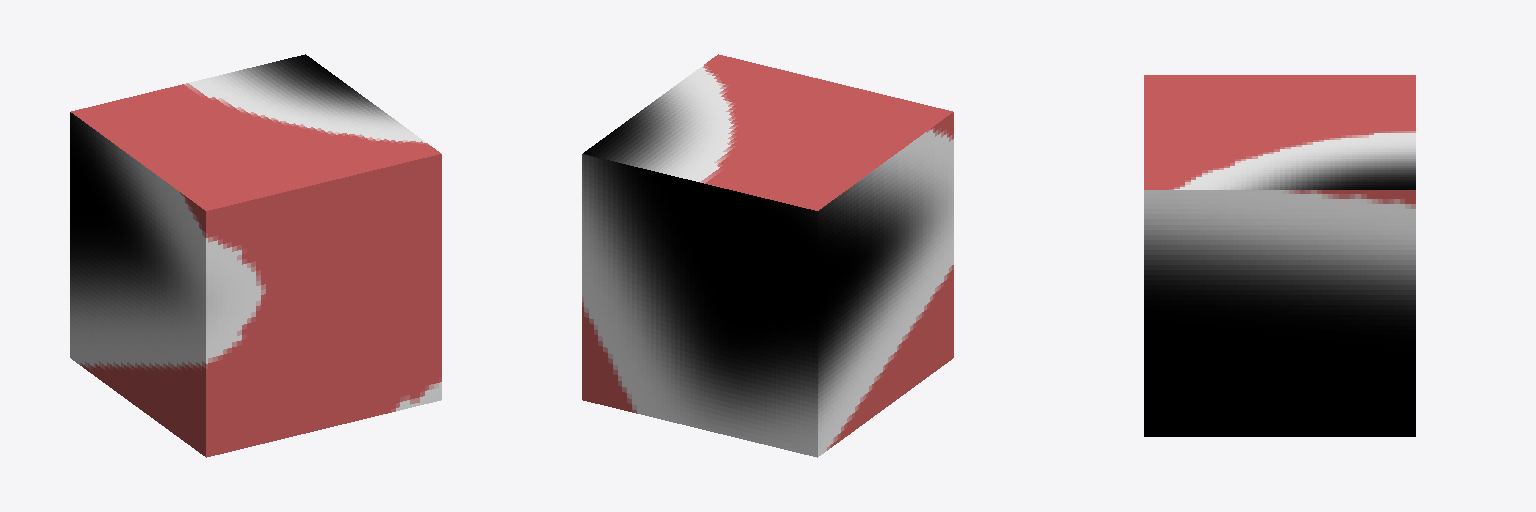
3 renders of one model, left to right at view 1: azimuth 30°, elevation 25°; view 2: azimuth 150°, elevation 25°; view 3: azimuth 270°, elevation 25°, orthographic.
Visible parts, largest first — view 1: 右足; view 2: 右足; view 3: 右足.
Part boxes in pixels (x1,y1,x2,y2): 右足: (70,54,441,457); 右足: (582,54,953,457); 右足: (1144,75,1415,436).
Size of the model in its own units: 3 by 3 by 3.
Materials: 1 (1 with a texture image).